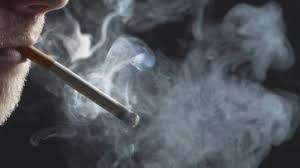smoke: (28, 0, 300, 168)
